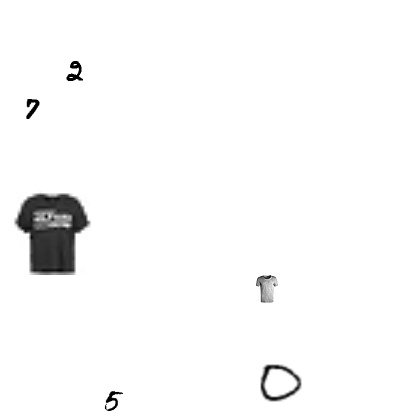0: (249, 353, 305, 409)
2: (61, 58, 89, 86)
5: (98, 386, 126, 414)
7: (18, 93, 46, 121)
T-shirt/top: (9, 191, 93, 275), (253, 275, 281, 303)
